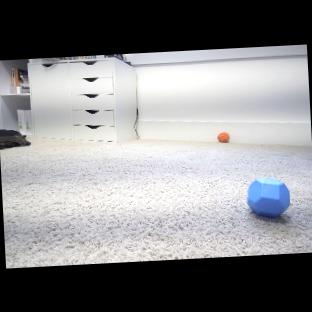V5_BLUE: (245, 176, 291, 218)
V5_RED: (216, 131, 230, 143)
